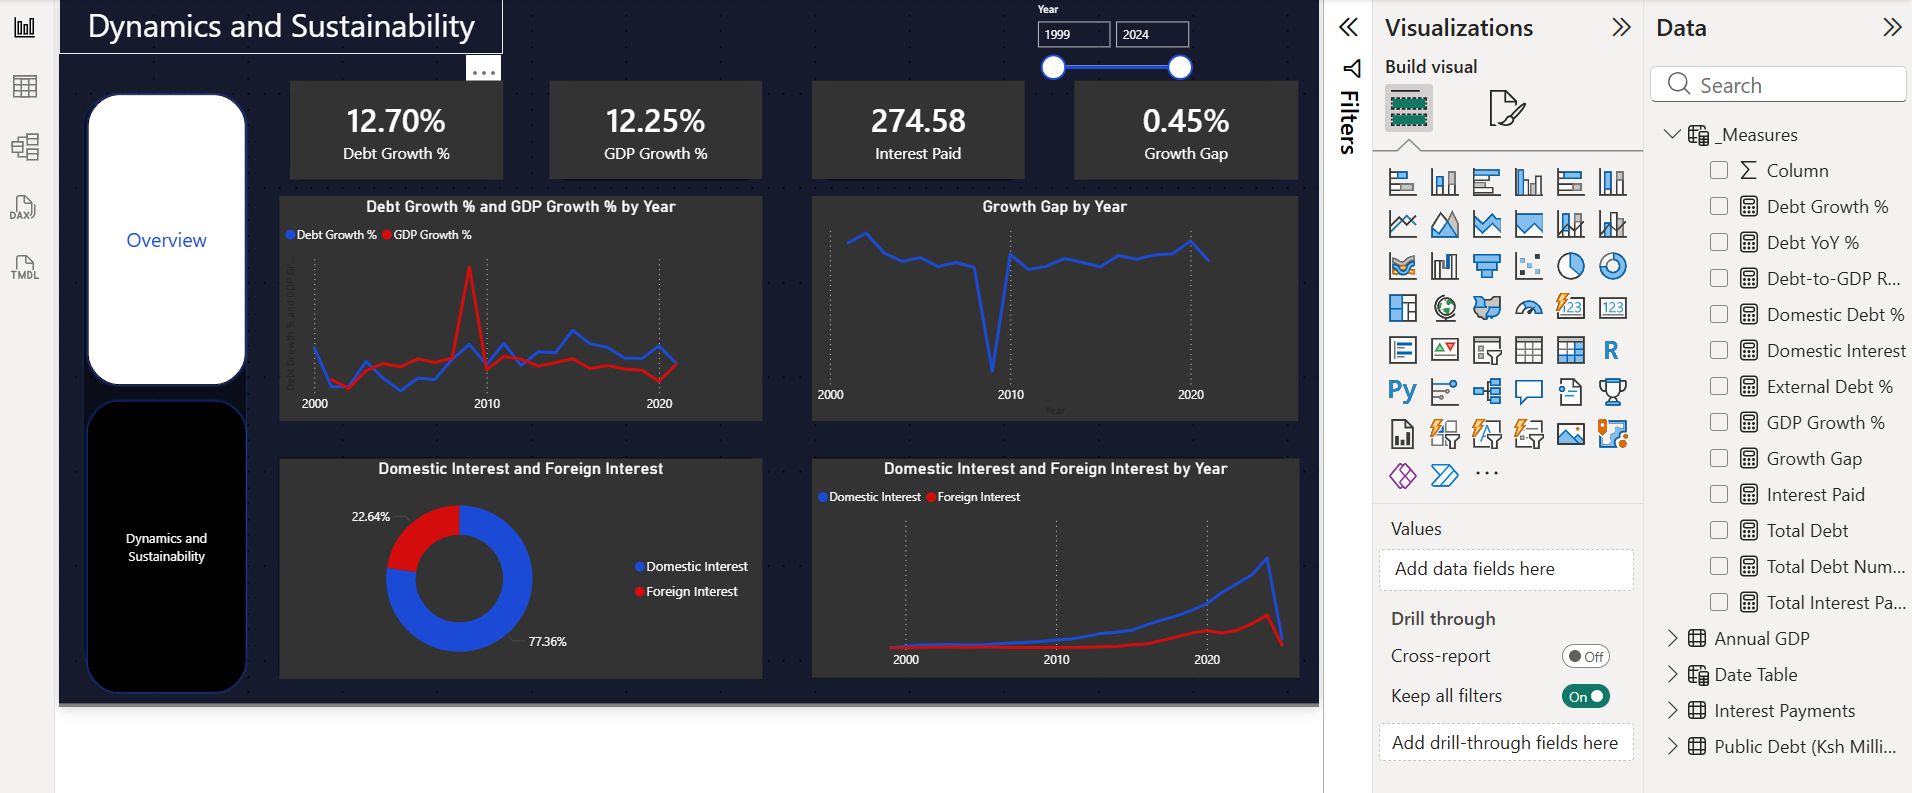

Layout of this report page (visuals, bound fields, positions):
{"tool":"powerbi","page":{"name":"Dynamics and Sustainability","canvas":[1280,720],"ordinal":1},"visuals":[{"type":"lineChart","fields":{"Y":["_Measures.Growth Gap"],"Category":["Annual GDP.Year"]},"box":[765,201.1,493.7,228.6],"z":1000},{"type":"donutChart","fields":{"Y":["Sum(Interest Payments.Domestic Interest)","Sum(Interest Payments.Foreign Interest)"]},"box":[224,467.8,490.7,224],"z":2000},{"type":"lineChart","fields":{"Y":["Sum(Interest Payments.Domestic Interest)","Sum(Interest Payments.Foreign Interest)"],"Category":["Interest Payments.Year"]},"box":[765,467.8,495.2,222.5],"z":3000},{"type":"textbox","box":[0,0,451,56.4],"z":4000},{"type":"cardVisual","fields":{"Data":["_Measures.Debt Growth %"]},"box":[234.7,83.8,216.4,100.6],"z":5000},{"type":"cardVisual","fields":{"Data":["_Measures.GDP Growth %"]},"box":[498.8,84,216,100],"z":6000},{"type":"cardVisual","fields":{"Data":["_Measures.Interest Paid"]},"box":[765.7,83.5,216,100.2],"z":7000},{"type":"cardVisual","fields":{"Data":["_Measures.Growth Gap"]},"box":[1031.6,83.8,227,100.6],"z":8000},{"type":"pageNavigator","box":[25.9,94.5,167.6,615.6],"z":9000},{"type":"lineChart","fields":{"Y":["_Measures.Debt Growth %","_Measures.GDP Growth %"],"Category":["Public Debt (Ksh Million).Year"]},"box":[224,201.1,490.7,228.6],"z":10000},{"type":"slicer","fields":{"Values":["Date Table.Year"]},"box":[981.3,0,178.3,83.8],"z":10001}]}

Visuals, with their boxes on the page's 1280x720 design canvas (x1, y1, x2, y2). These are canvas units, not pixel positions in the 1912x793 screenshot, which may show the page scaled, cropped or inside an application window:
lineChart - _Measures.Growth Gap x Annual GDP.Year: crop(765, 201, 1259, 430)
donutChart - Sum(Interest Payments.Domestic Interest) x Sum(Interest Payments.Foreign Interest): crop(224, 468, 715, 692)
lineChart - Sum(Interest Payments.Domestic Interest) x Sum(Interest Payments.Foreign Interest): crop(765, 468, 1260, 690)
textbox: crop(0, 0, 451, 56)
cardVisual - _Measures.Debt Growth %: crop(235, 84, 451, 184)
cardVisual - _Measures.GDP Growth %: crop(499, 84, 715, 184)
cardVisual - _Measures.Interest Paid: crop(766, 84, 982, 184)
cardVisual - _Measures.Growth Gap: crop(1032, 84, 1259, 184)
pageNavigator: crop(26, 94, 194, 710)
lineChart - _Measures.Debt Growth % x _Measures.GDP Growth %: crop(224, 201, 715, 430)
slicer - Date Table.Year: crop(981, 0, 1160, 84)
